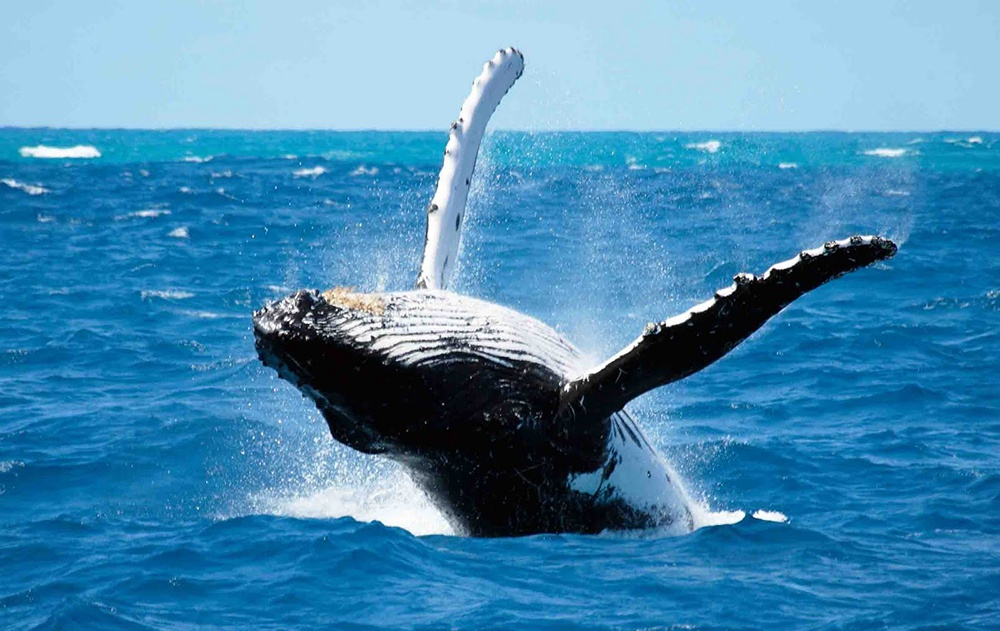humpback: (252, 286, 697, 534)
